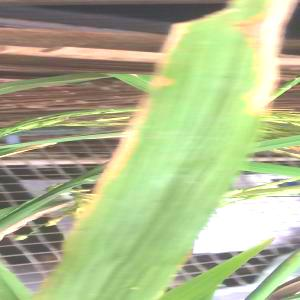2 BacterialBlight: (157, 1, 284, 205)
